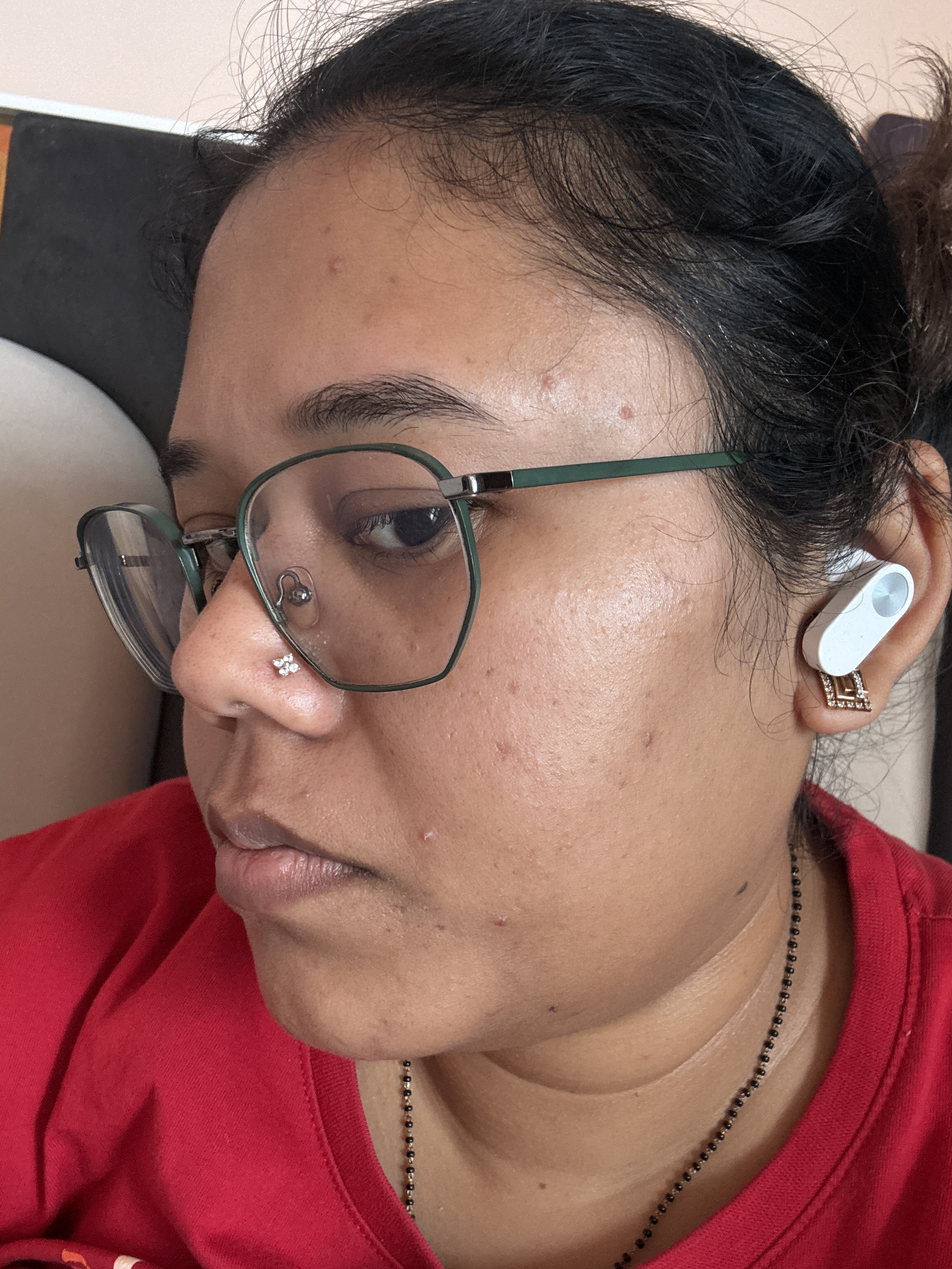closed_comedone: (578, 678, 623, 750), (534, 769, 612, 810), (618, 557, 652, 611), (621, 613, 681, 639), (526, 816, 564, 857), (563, 811, 591, 856), (655, 577, 694, 605), (567, 584, 601, 614), (630, 536, 647, 552), (681, 606, 695, 618)
open_comedone: (186, 639, 222, 679), (223, 629, 281, 653), (220, 594, 256, 628), (252, 673, 275, 688), (301, 675, 316, 693), (206, 611, 221, 629)
papule: (326, 257, 346, 276), (538, 377, 560, 393), (617, 405, 635, 420), (364, 314, 383, 328), (493, 915, 509, 927), (645, 731, 653, 746)
pustule: (420, 830, 436, 843)
